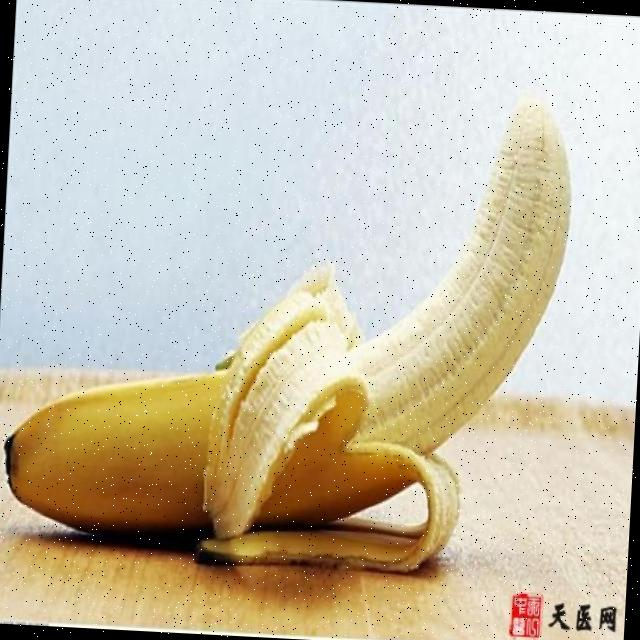banana-peel: (0, 69, 578, 580)
